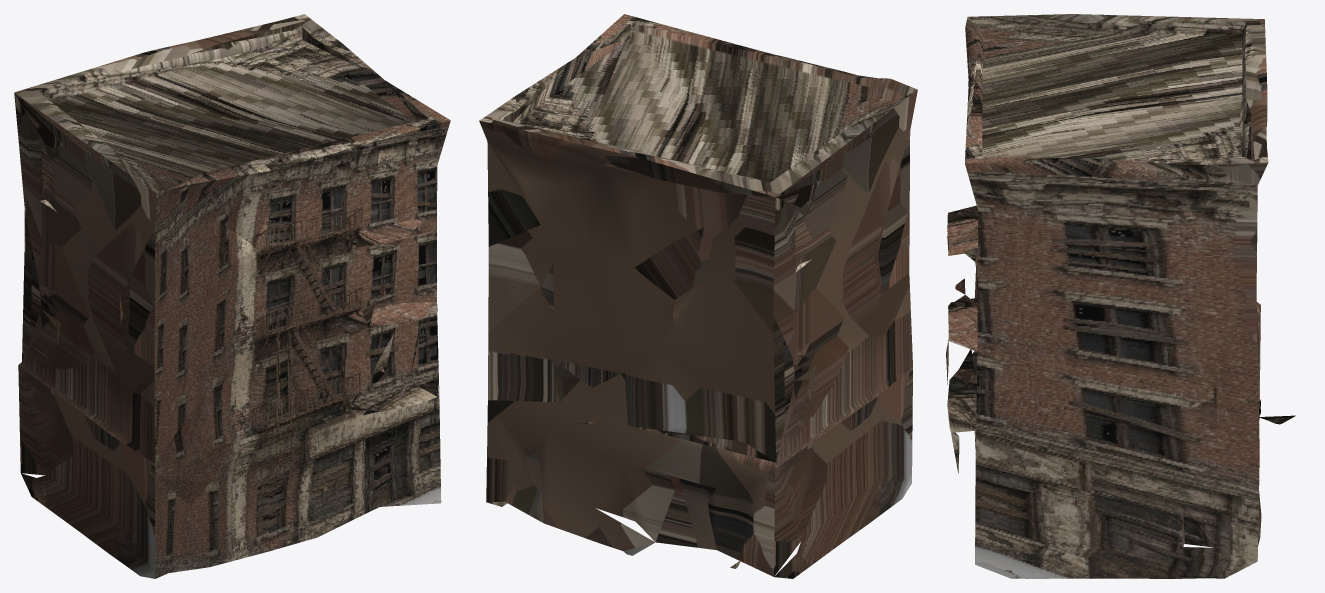
File: building.glb
3 renders of one model, left to right at view 1: azimuth 30°, elevation 25°; view 2: azimuth 150°, elevation 25°; view 3: azimuth 270°, elevation 25°, orthographic. The views are drawn at different scales.
Bounding box in the file's own units: 1.53 × 1.98 × 1.56.
1 material, 1 textured.
